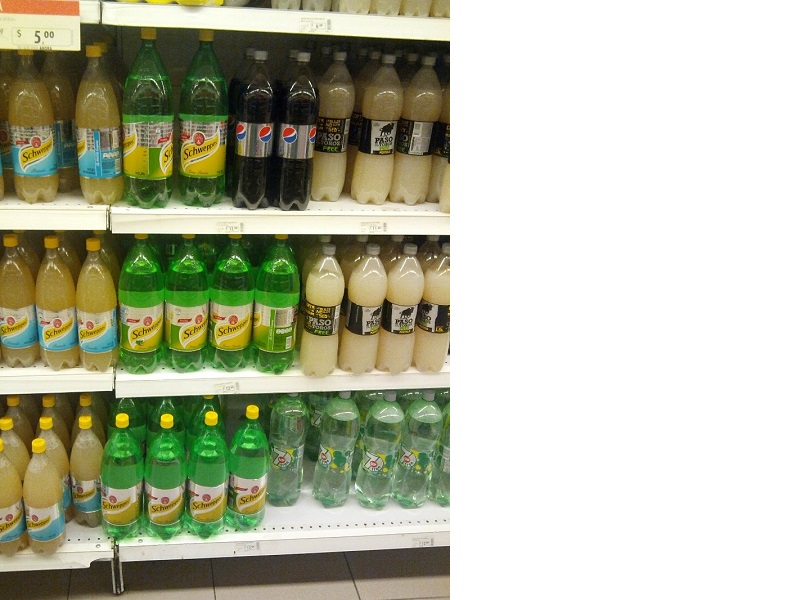lemonade: (110, 27, 179, 213), (174, 26, 237, 213), (69, 42, 136, 213), (1, 50, 67, 211), (227, 50, 288, 217), (272, 47, 328, 223), (28, 234, 88, 374), (160, 229, 218, 373), (114, 230, 169, 381), (72, 234, 127, 375), (209, 231, 259, 380), (1, 228, 49, 380), (98, 411, 149, 550), (142, 411, 193, 546), (339, 239, 387, 379), (184, 410, 233, 545), (19, 438, 70, 562), (311, 387, 361, 513), (303, 242, 347, 385), (355, 390, 404, 516), (226, 401, 271, 538)
